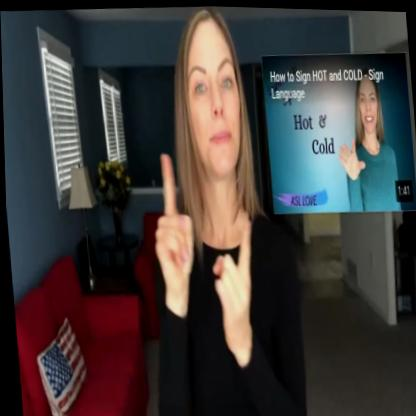NiceToMeetYou: (124, 3, 309, 416)
